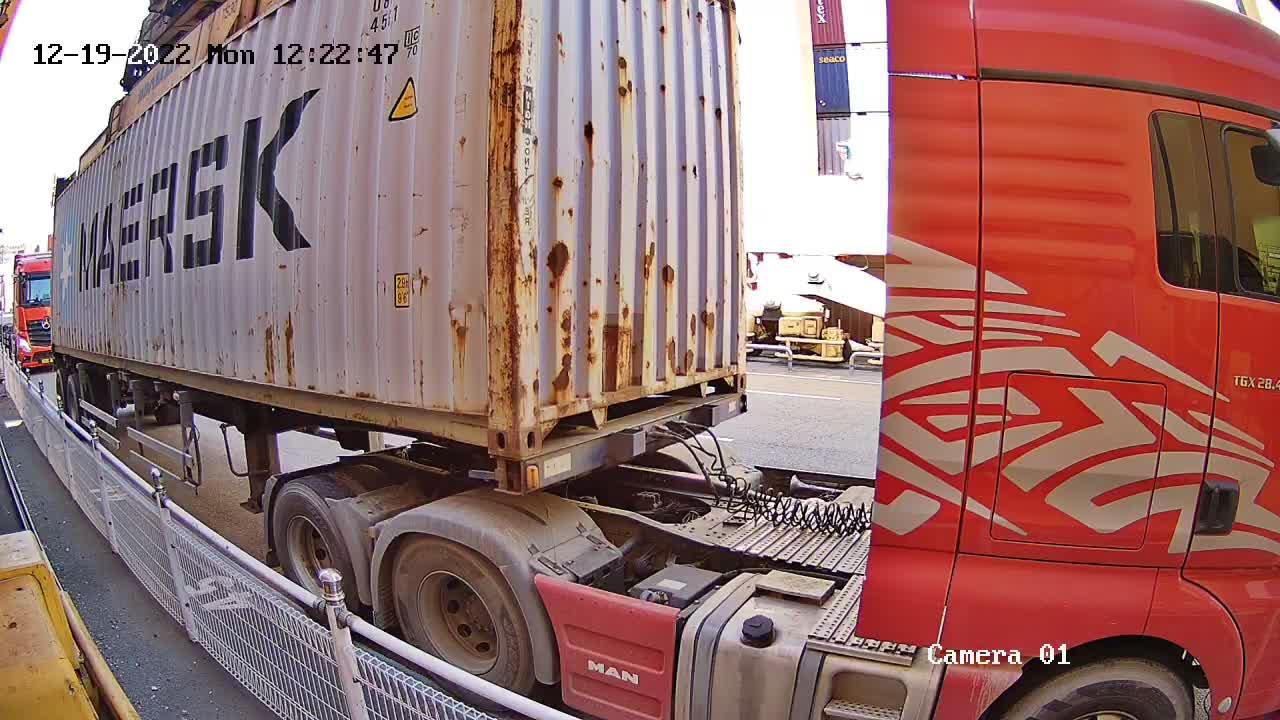Chassis: (495, 390, 744, 495)
Cone: (487, 459, 523, 495)
Hole_L: (516, 388, 571, 456)
Hole_R: (457, 390, 518, 457), (709, 346, 747, 397)
Tire: (396, 538, 522, 684), (272, 486, 353, 597)
